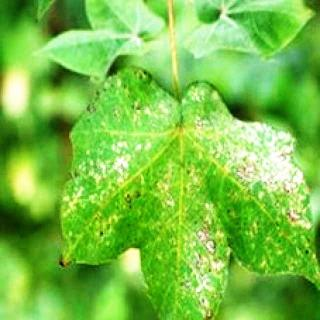grey mildew: (53, 72, 320, 320)
